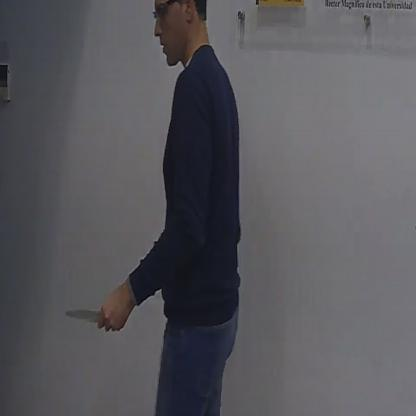knife: (62, 288, 124, 336)
